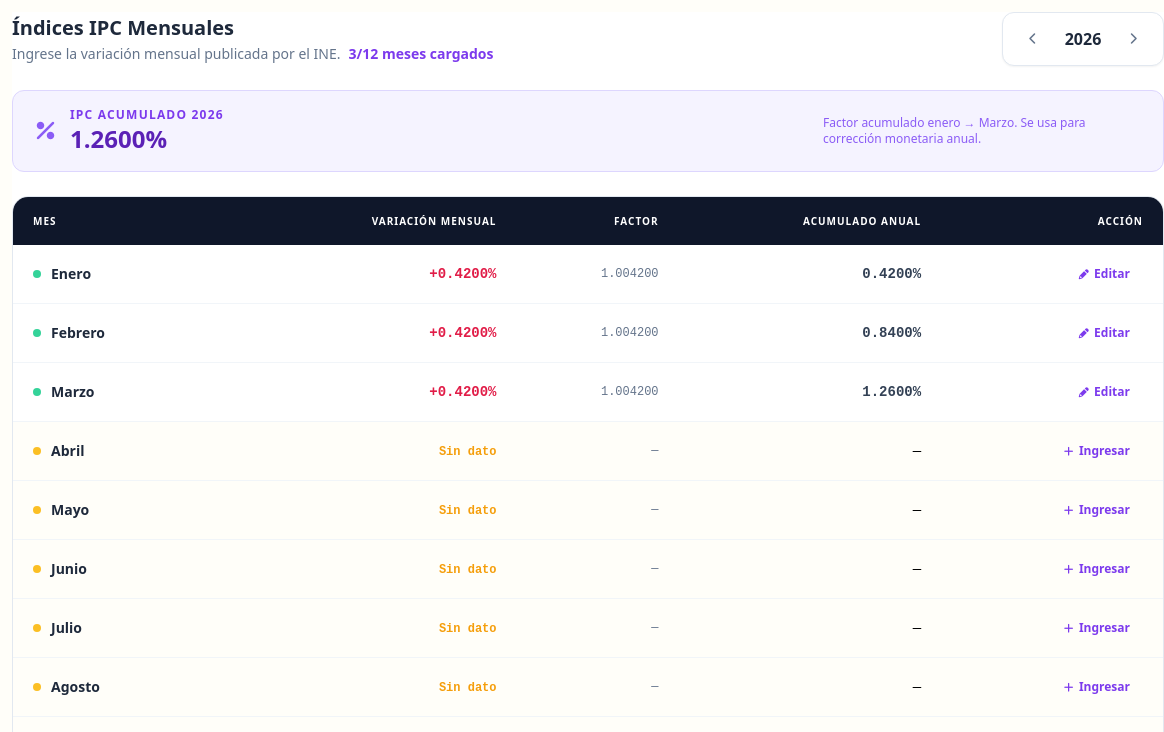
TabIndicesIpc - edicion inline › click en Ingresar muestra input de variacion
This screenshot has width=1164, height=732.
Click the button "Ingresar" in the row of "Abril" at {"x": 1096, "y": 451}, box top-left (1049, 436), bottom-right (1143, 466)
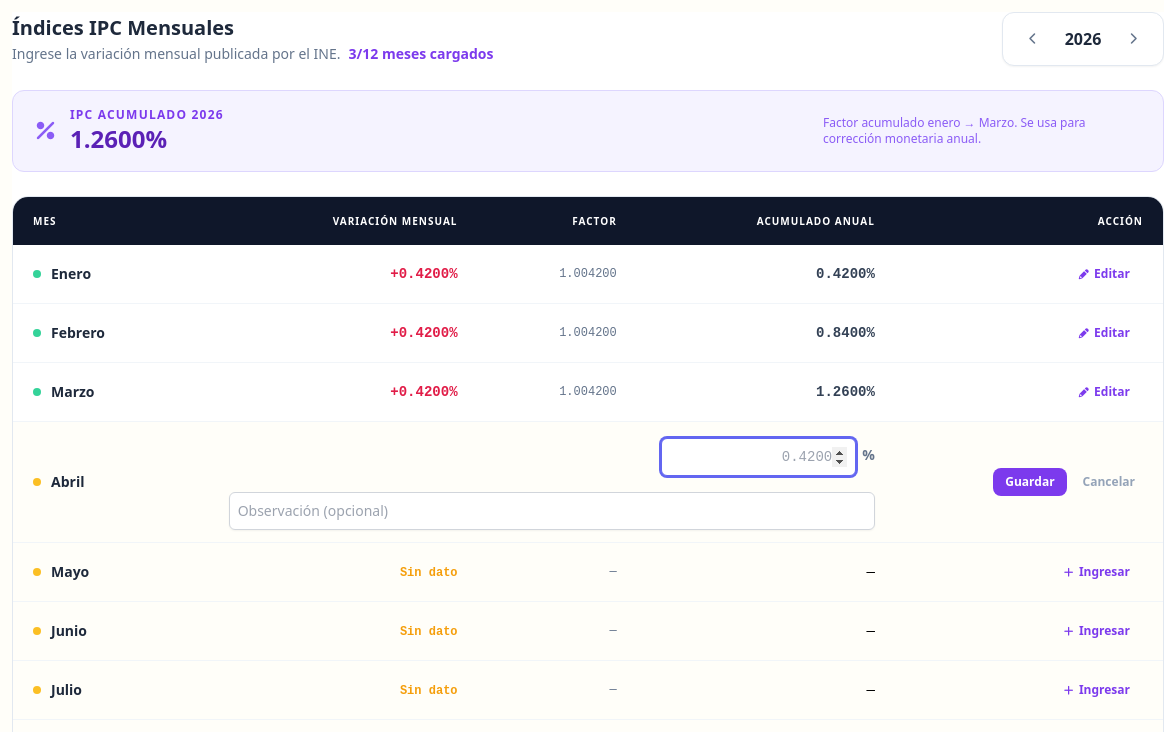
Expected: the number field with placeholder "0.4200" is shown, top-left (661, 438), bottom-right (856, 476)
